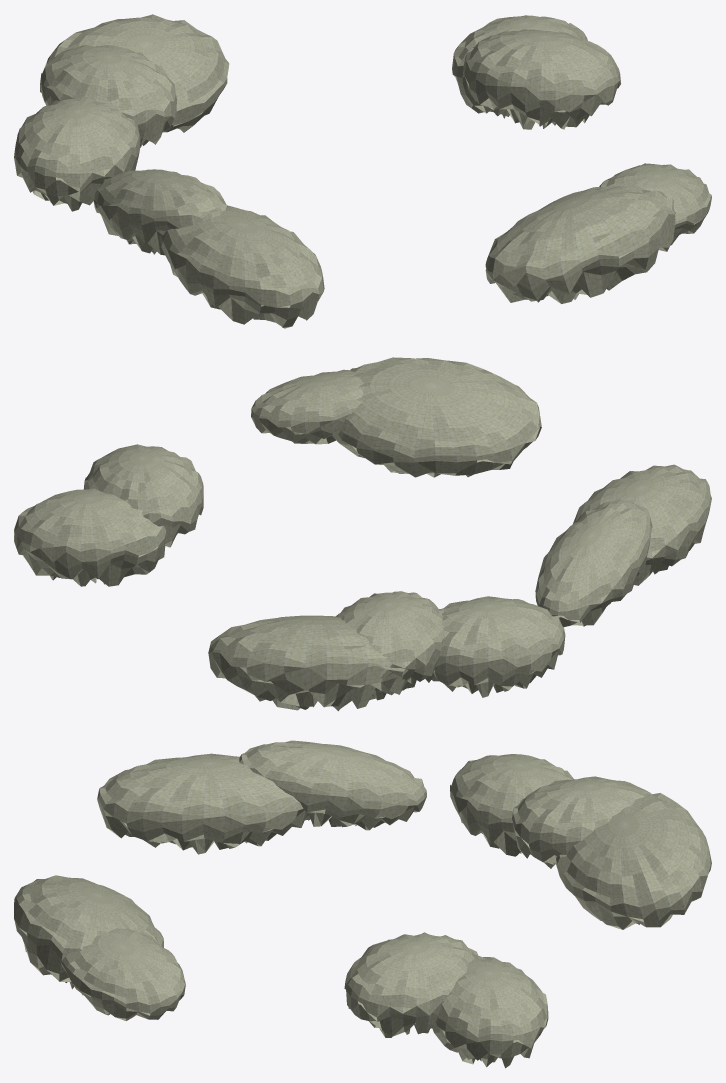
Rendered from SM_LDFest_23_04.fbx.
3 renders of one model, top to bottom at view 1: azimuth 30°, elevation 25°; view 2: azimuth 150°, elevation 25°; view 3: azimuth 270°, elevation 25°, orthographic. The views are drawn at different scales.
Visible parts, largest first — view 1: SM_LDFest_23_04; view 2: SM_LDFest_23_04; view 3: SM_LDFest_23_04.
Boxes of the visible parts, box(x1,y1,x2,y2) form: SM_LDFest_23_04: box(14, 14, 711, 328); SM_LDFest_23_04: box(14, 357, 711, 711); SM_LDFest_23_04: box(14, 740, 711, 1068).
Size of the model in its own units: 5355 by 998 by 5996.
